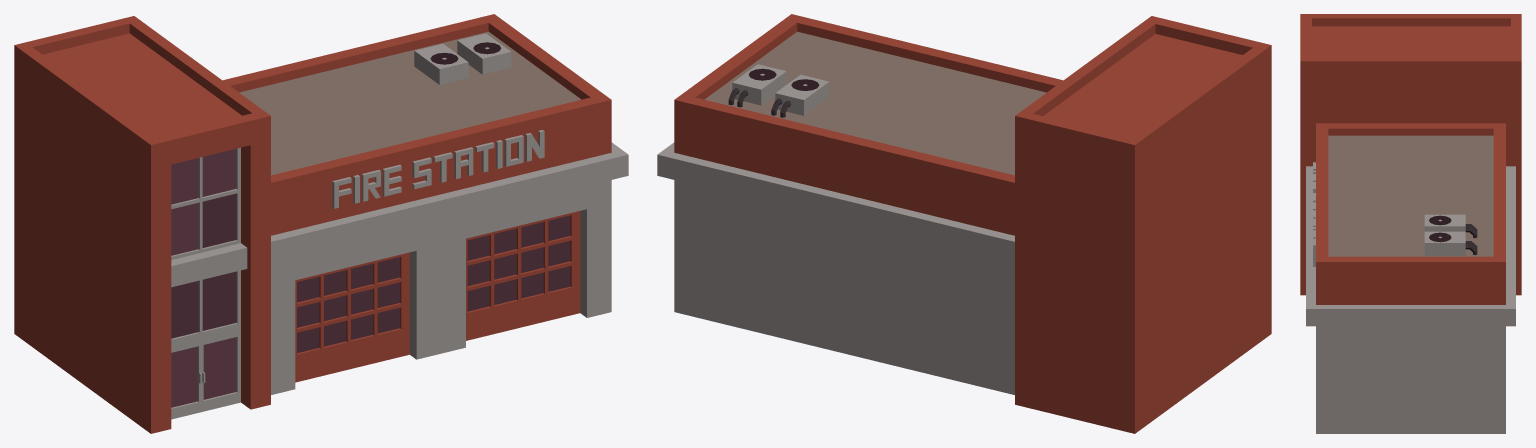
Rendered from Building_42.fbx.
3 views of the same model, side by side, from view 1: azimuth 30°, elevation 25°; view 2: azimuth 150°, elevation 25°; view 3: azimuth 270°, elevation 25° (orthographic). The views are drawn at different scales.
Parts seen in each view (by area): view 1: Building_42; view 2: Building_42; view 3: Building_42.
Boxes of the visible parts, box(x1,y1,x2,y2) form: Building_42: box(14, 14, 628, 433); Building_42: box(657, 14, 1271, 433); Building_42: box(1300, 14, 1521, 433).
Bounding box in the file's own units: 19.99 × 11.47 × 9.84.
